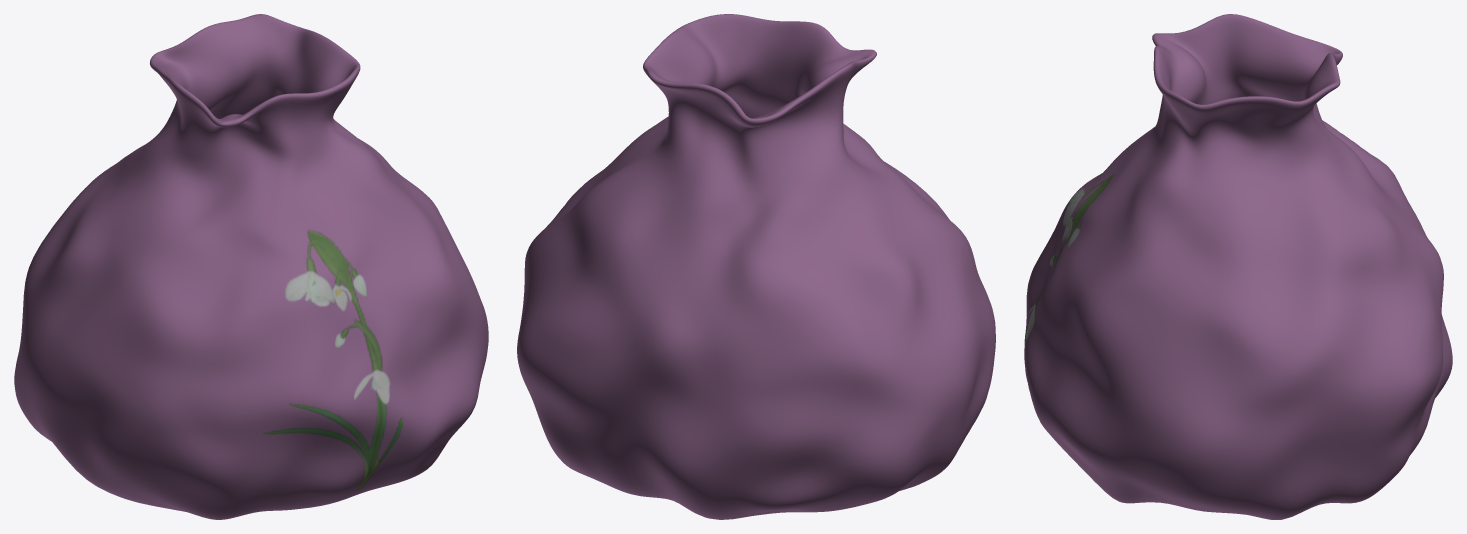
Rendered from snowdrop_seed.fbx.
3 views of the same model, side by side, from view 1: azimuth 30°, elevation 25°; view 2: azimuth 150°, elevation 25°; view 3: azimuth 270°, elevation 25° (orthographic). The views are drawn at different scales.
Visible parts, largest first — view 1: zak; view 2: zak; view 3: zak.
Part boxes in pixels (box(x1,y1,x2,y2)): zak: box(14, 14, 488, 519); zak: box(517, 14, 995, 519); zak: box(1024, 14, 1452, 519).
Bounding box in the file's own units: 196 × 183 × 175.
Materials: 1 (1 with a texture image).
